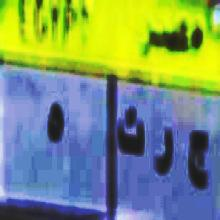5: (46, 92, 64, 144)
jeem: (184, 123, 211, 194)
raa: (154, 119, 174, 182)
taa: (114, 94, 146, 161)
